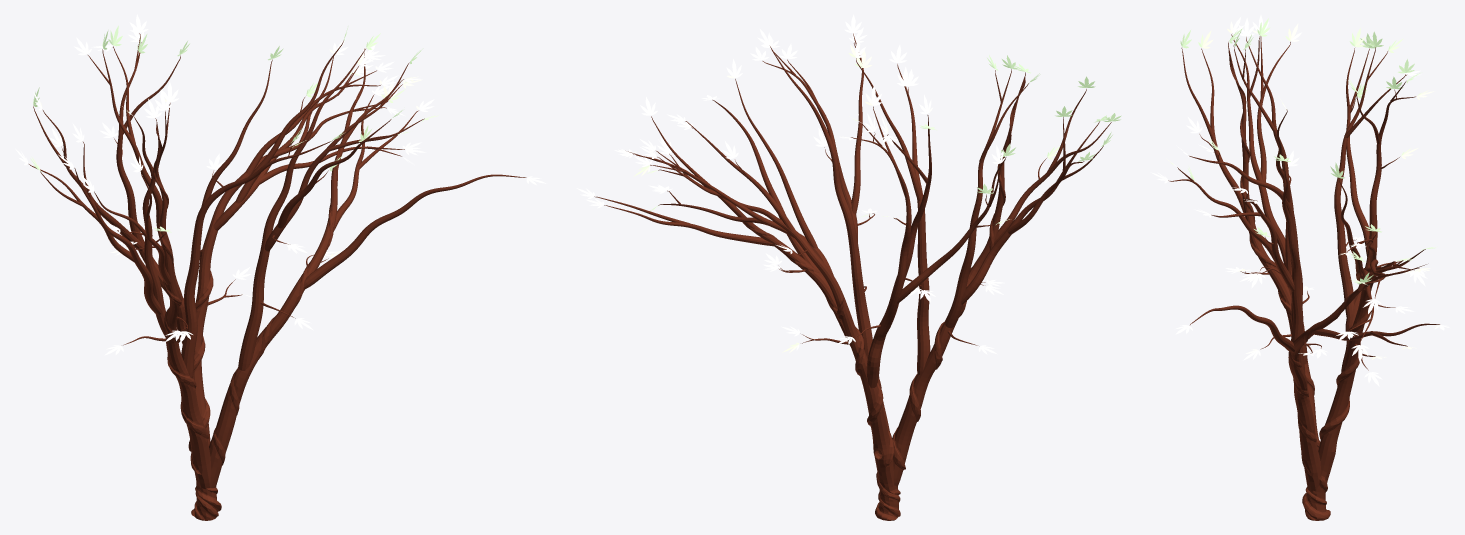
File: arbol.fbx
3 renders of one model, left to right at view 1: azimuth 30°, elevation 25°; view 2: azimuth 150°, elevation 25°; view 3: azimuth 270°, elevation 25°, orthographic. The views are drawn at different scales.
Parts seen in each view (by area): view 1: tree, leaves; view 2: tree, leaves; view 3: tree, leaves.
Boxes of the visible parts, x1,y1,x2,y2 form: tree: [29, 33, 526, 520]; leaves: [15, 14, 546, 355]; tree: [594, 33, 1111, 520]; leaves: [576, 14, 1121, 354]; tree: [1168, 34, 1439, 520]; leaves: [1150, 15, 1449, 386].
Size of the model in its own units: 4.44 by 4.23 by 2.53.
